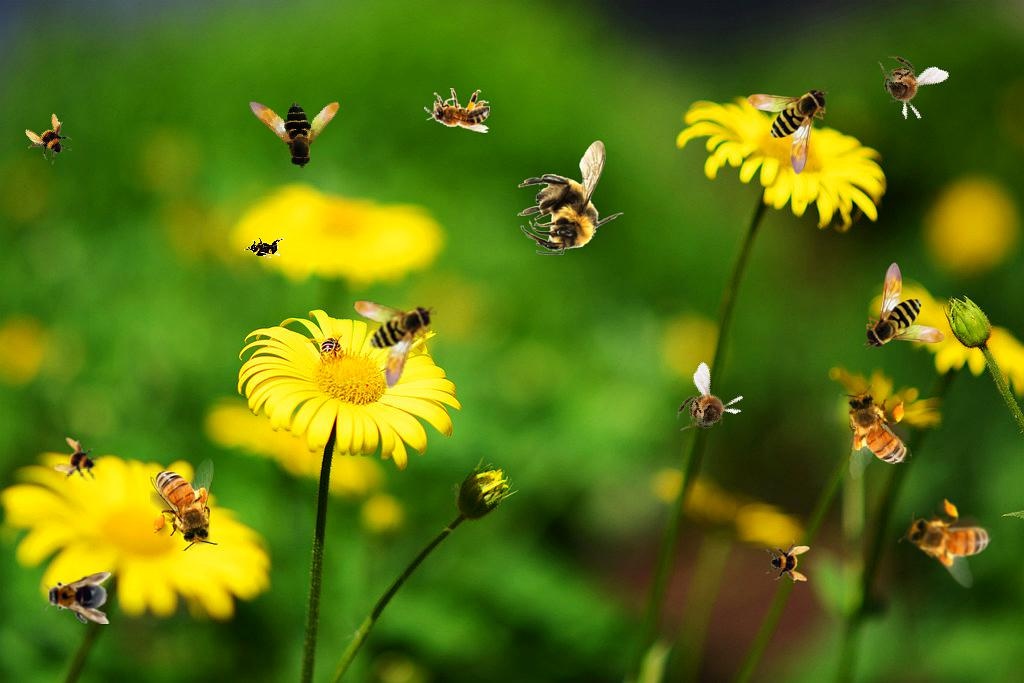Bee: (230, 59, 350, 177), (892, 484, 1008, 595), (517, 140, 624, 255), (339, 291, 437, 395), (663, 361, 754, 453), (860, 43, 951, 129), (838, 382, 914, 481), (863, 262, 945, 350), (747, 87, 829, 175), (150, 458, 218, 551), (18, 109, 80, 171), (43, 572, 111, 624), (50, 434, 106, 490), (424, 88, 490, 133), (766, 539, 810, 583), (243, 236, 285, 260)
